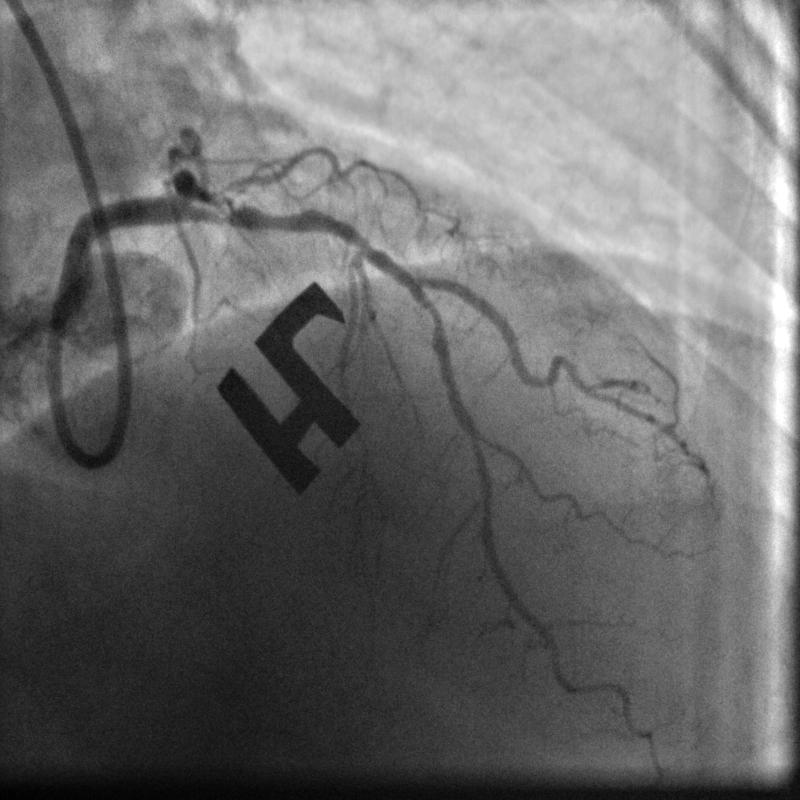Stenosis: (205, 197, 307, 232)
